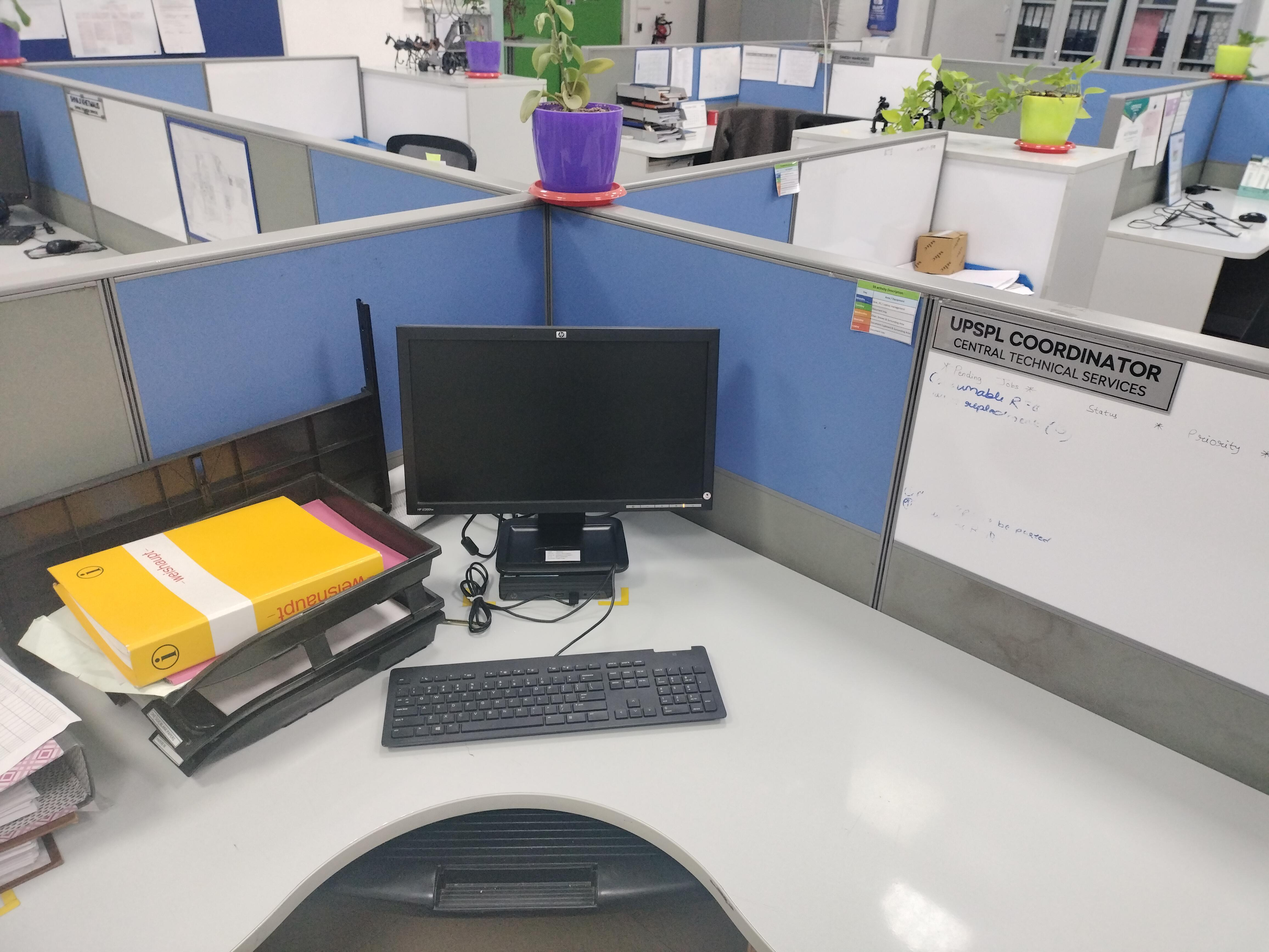StickyNotes: (847, 274, 929, 349)
desktop: (392, 322, 724, 576)
file: (41, 491, 387, 687), (5, 648, 97, 848), (2, 811, 80, 896)
filetray: (104, 466, 450, 781)
keyboard: (371, 639, 729, 751)
nameplate: (924, 300, 1196, 419)
page: (0, 656, 91, 774)
vase: (525, 99, 628, 214)
